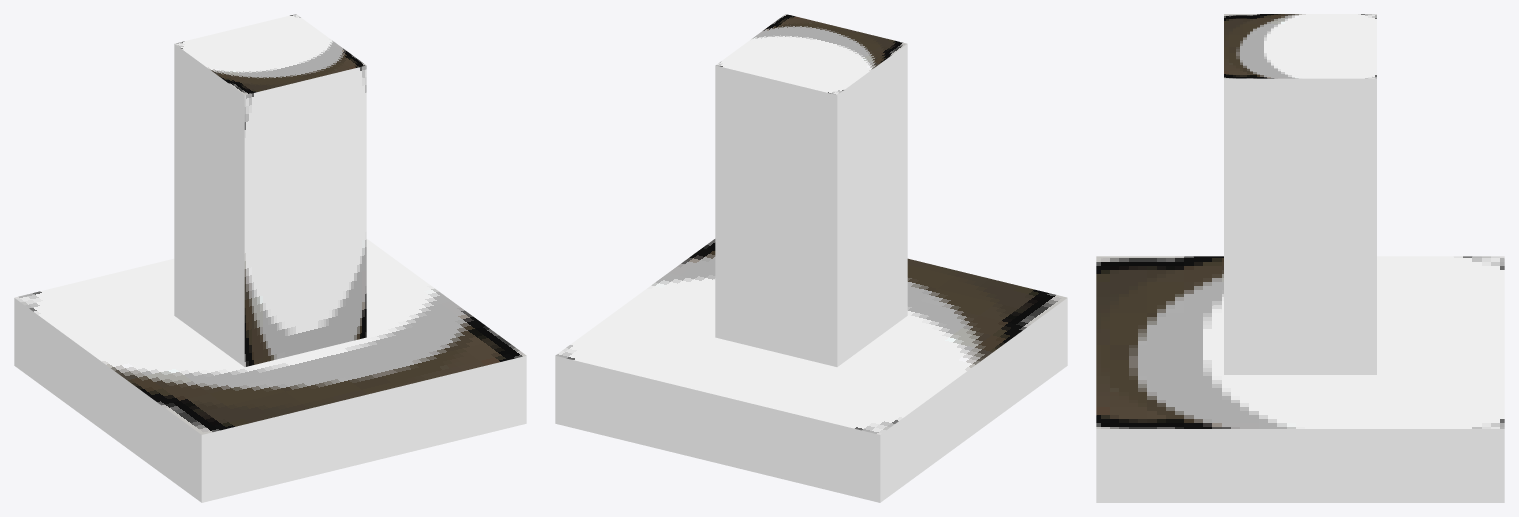
Rendered from Building_Drum.glb.
The picture shows the model from 3 angles, left to right: view 1: azimuth 30°, elevation 25°; view 2: azimuth 150°, elevation 25°; view 3: azimuth 270°, elevation 25°; orthographic projection. The views are drawn at different scales.
Parts seen in each view (by area): view 1: Drum; view 2: Drum; view 3: Drum.
Boxes of the visible parts, x1,y1,x2,y2 form: Drum: (14, 14, 526, 502); Drum: (555, 14, 1067, 502); Drum: (1096, 14, 1504, 502).
Size of the model in its own units: 0.8 by 0.8 by 0.8.
1 material, 1 textured.
